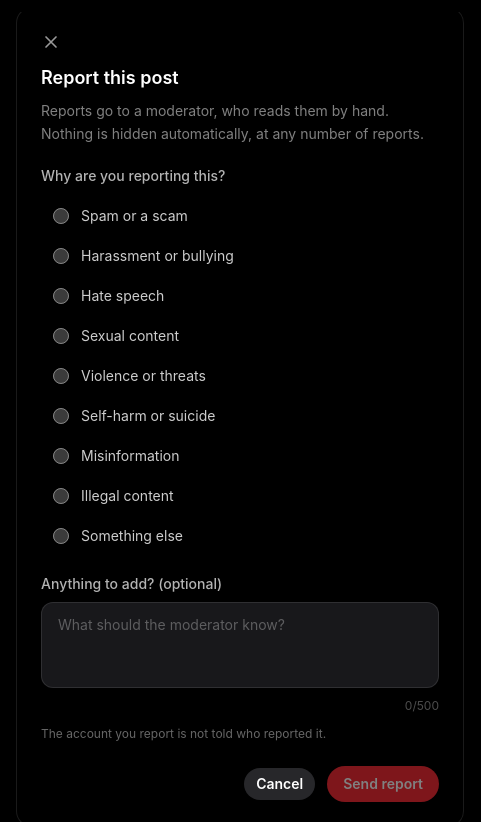
Test: ReportModal › stays open and states the failure
Click the radio button labelled "Spam or a scam": (61, 216) [53, 208, 69, 224]
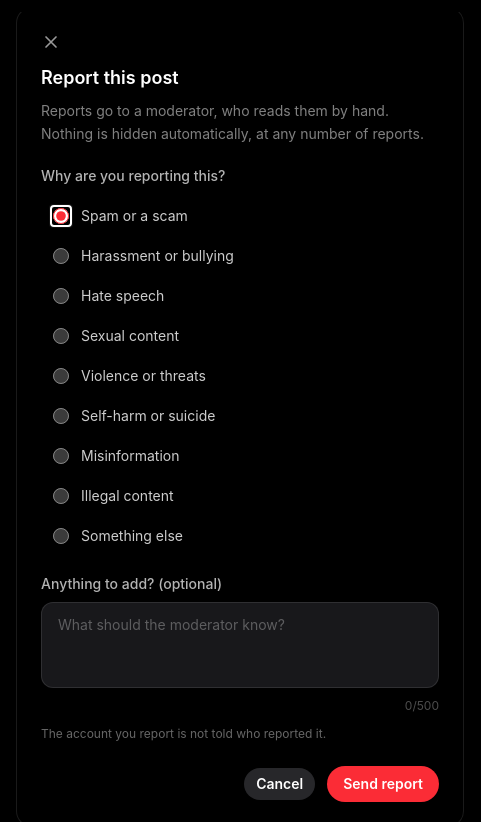
Click the button "Send report": (383, 784) [327, 766, 439, 802]
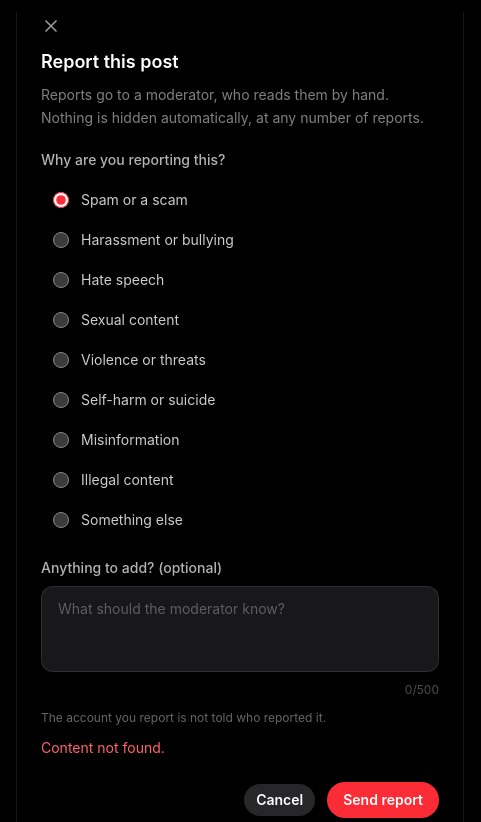
Result: the radio button labelled "Spam or a scam" is checked at [53, 192, 69, 208]
Result: the text "Content not found." is shown at [41, 739, 165, 756]
